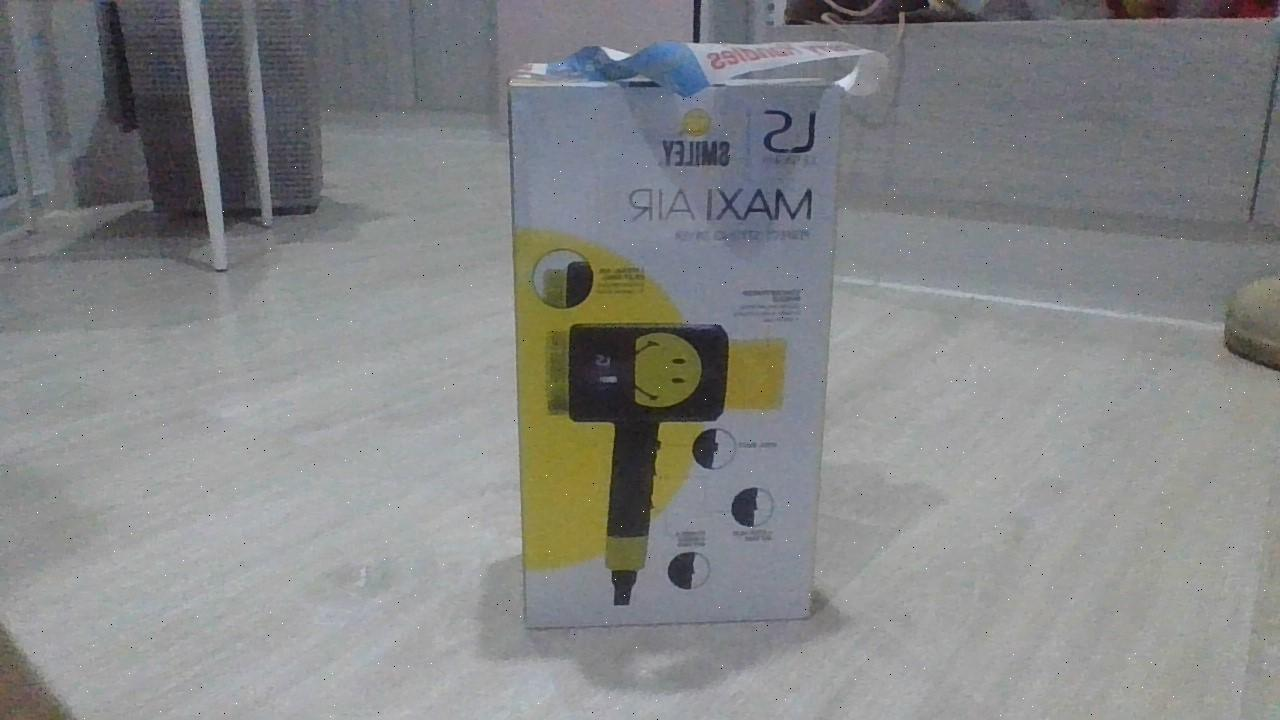Dryer: (503, 54, 855, 634)
